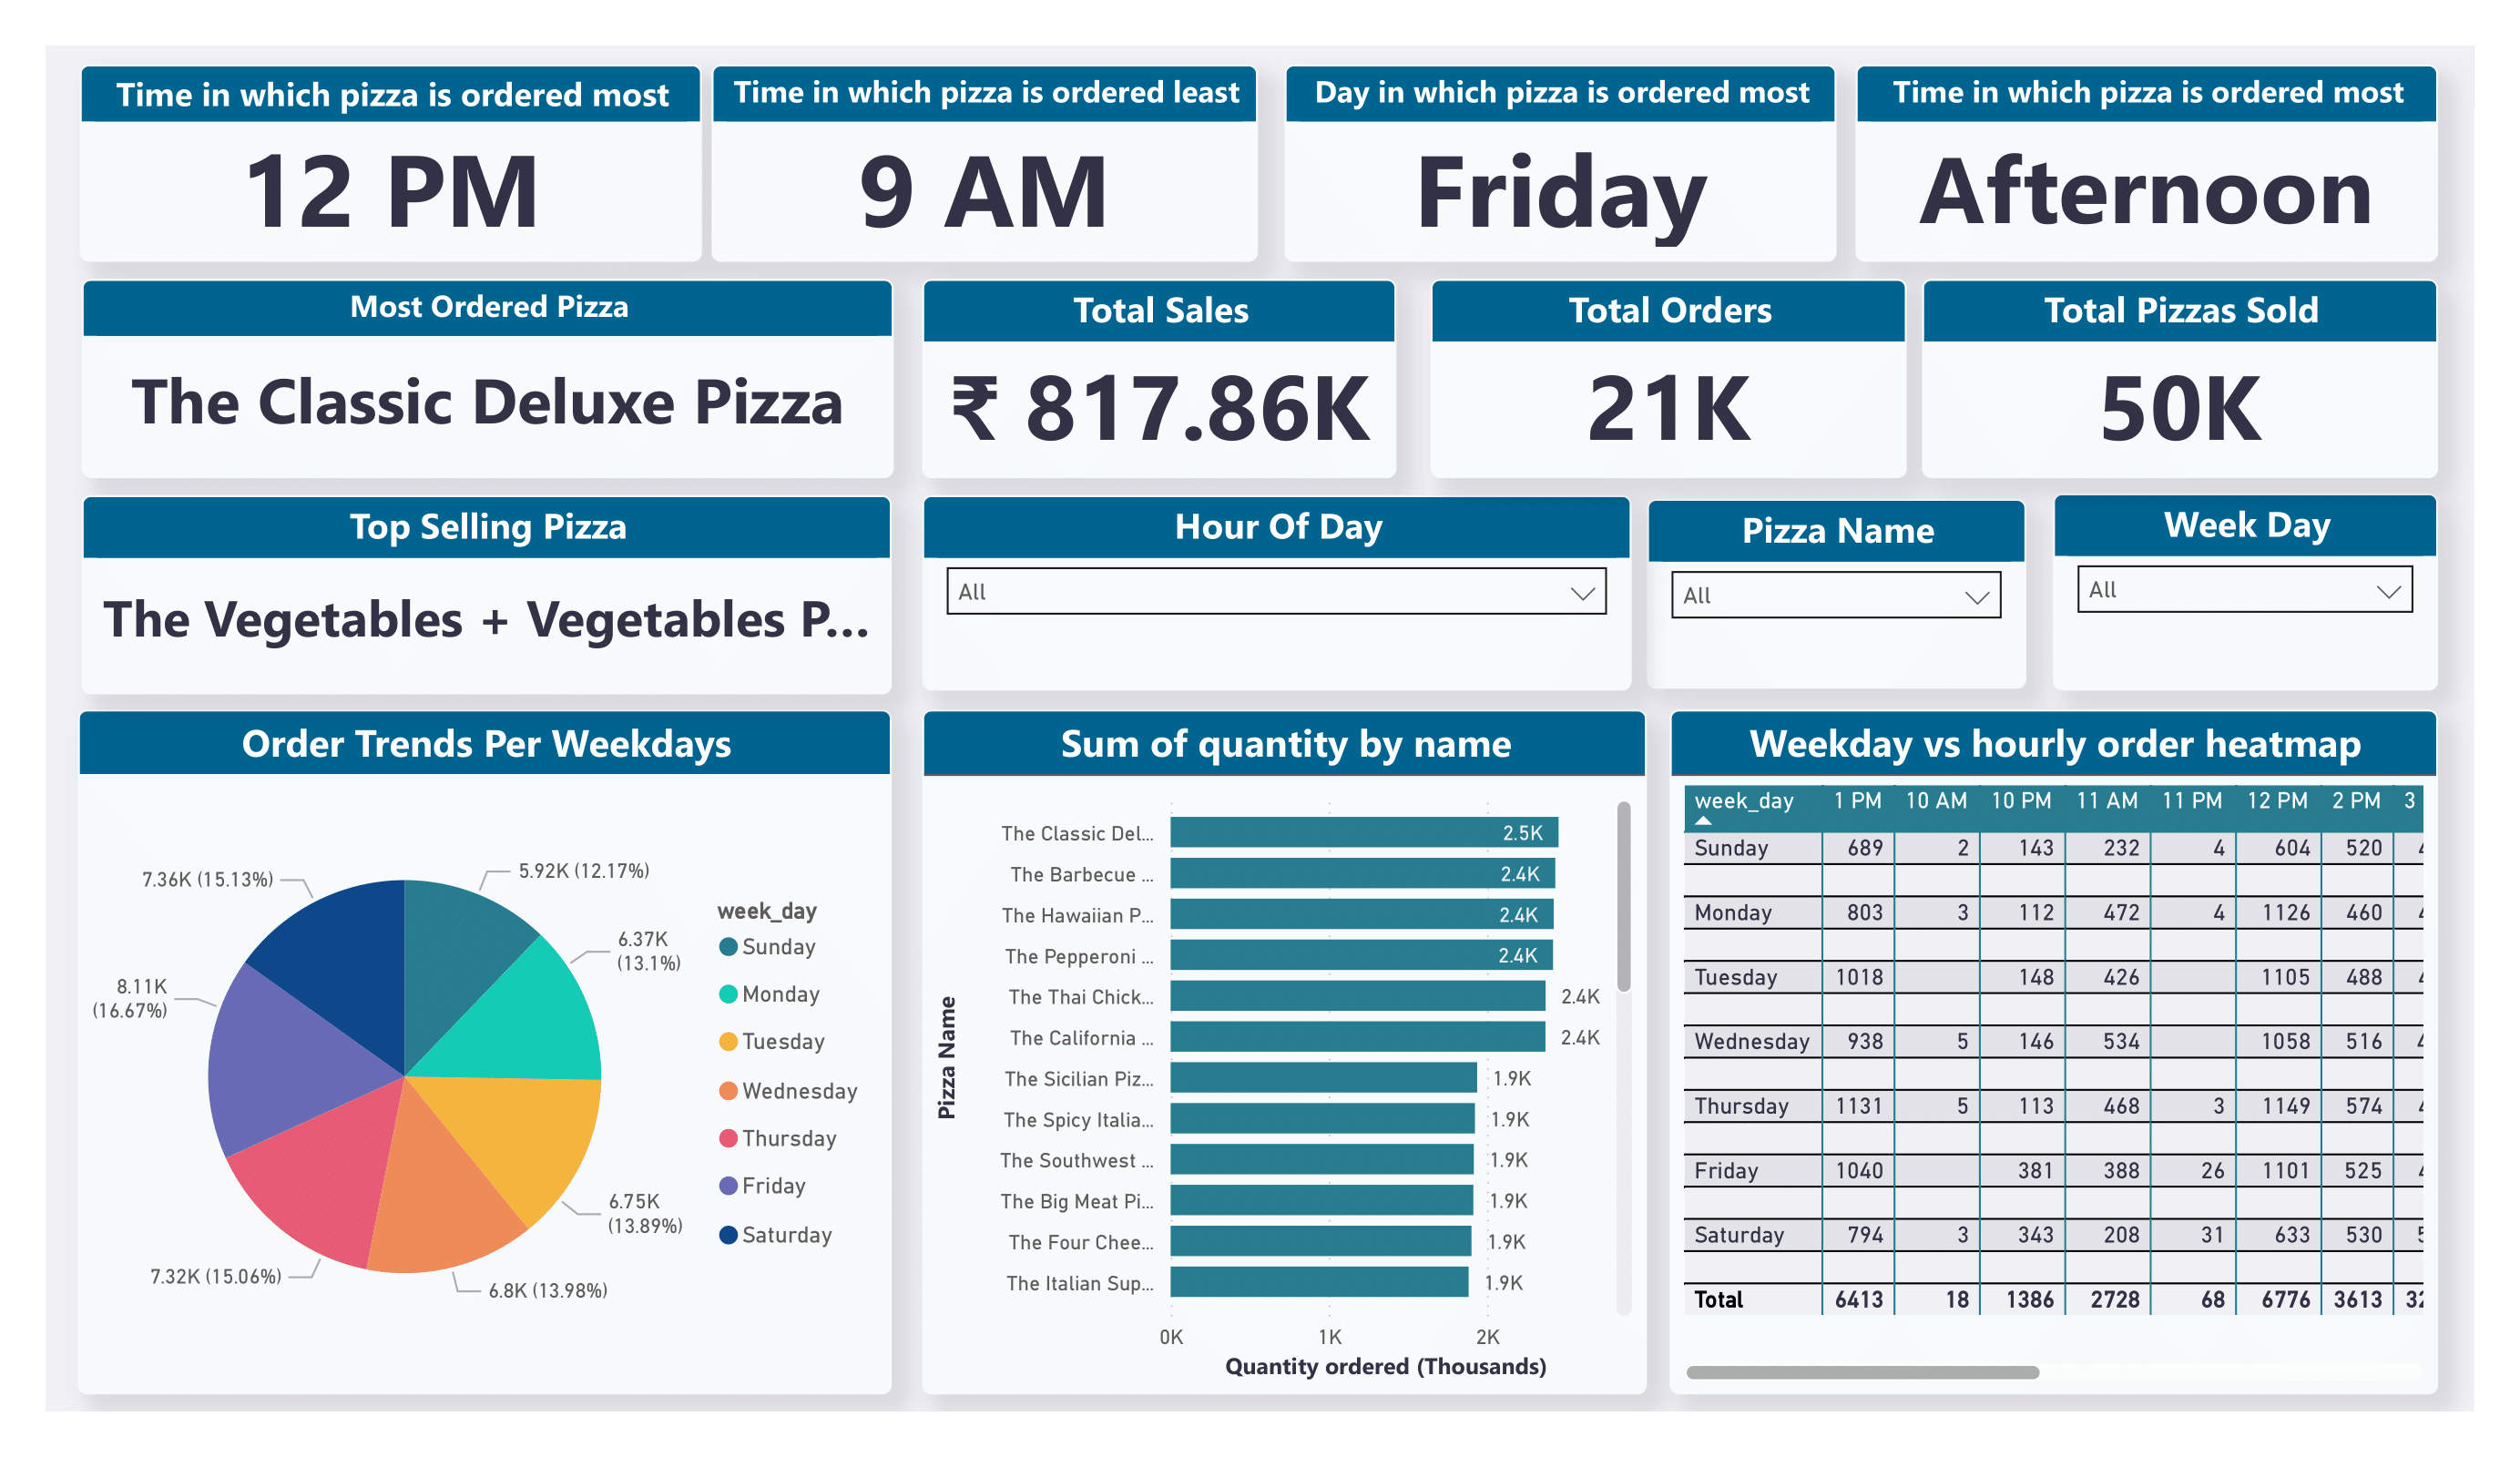

The page's visual inventory and layout, read from the dashboard file:
{"tool":"powerbi","page":{"name":"Page 1","canvas":[1280,720],"ordinal":0},"visuals":[{"type":"card","title":"Time in which pizza is ordered most ","fields":{"Values":["orders.most_ordered_pizza_time"]},"box":[17.8,9.6,328,104.3],"z":0},{"type":"card","title":"Time in which pizza is ordered least","fields":{"Values":["orders.least_ordered_pizza_time"]},"box":[351.3,9.6,288.2,104.3],"z":1000},{"type":"pieChart","title":"Order Trends Per Weekdays","fields":{"Y":["CountNonNull(order_details.order_id)"],"Category":["orders.week_day"]},"box":[17.1,350,428.6,361.4],"z":2000},{"type":"card","title":"Day in which pizza is ordered most","fields":{"Values":["orders.most_ordered_day"]},"box":[653.2,9.6,290.9,104.3],"z":3000},{"type":"barChart","fields":{"Y":["Sum(order_details.quantity)"],"Category":["pizza_types.name"]},"box":[462.4,349.9,381.5,360.9],"z":4000},{"type":"card","title":"Most Ordered Pizza","fields":{"Values":["pizza_types.Most_Ordered_Pizza"]},"box":[19.2,123.5,428.1,104.3],"z":5000},{"type":"card","title":"Time in which pizza is ordered most","fields":{"Values":["orders.most_ordered_pizza_day"]},"box":[953.7,9.6,307.4,104.3],"z":6000},{"type":"card","title":"Total Sales","fields":{"Values":["order_details.Total Sales"]},"box":[462.4,123.5,249.7,104.3],"z":7000},{"type":"slicer","title":"Pizza Name","fields":{"Values":["pizza_types.name"]},"box":[843.9,238.8,200.3,100.2],"z":8000},{"type":"slicer","title":"Week Day","fields":{"Values":["orders.week_day"]},"box":[1058,236,203.1,104.3],"z":9000},{"type":"slicer","title":"Hour Of Day","fields":{"Values":["orders.formatted_time"]},"box":[462.4,237.4,373.2,102.9],"z":10000},{"type":"pivotTable","title":"Weekday vs hourly order  heatmap","fields":{"Rows":["orders.week_day"],"Values":["Sum(order_details.quantity)"],"Columns":["orders.formatted_time"]},"box":[856.3,349.9,404.8,360.9],"z":11000},{"type":"card","title":"Total Orders","fields":{"Values":["orders.total_orders"]},"box":[730,123.5,251.1,104.3],"z":12000},{"type":"card","title":"Total Pizzas Sold","fields":{"Values":["order_details.total_pizzas_sold"]},"box":[989.4,123.5,271.7,104.3],"z":13000},{"type":"card","title":"Top Selling Pizza","fields":{"Values":["pizza_types.top_selling_pizza"]},"box":[19.2,237.4,426.8,104.3],"z":14000}]}

Visuals, with their boxes on the page's 1280x720 design canvas (x1, y1, x2, y2). These are canvas units, not pixel positions in the 2520x1457 screenshot, which may show the page scaled, cropped or inside an application window:
"Time in which pizza is ordered most " card: l=18, t=10, r=346, b=114
"Time in which pizza is ordered least" card: l=351, t=10, r=640, b=114
"Order Trends Per Weekdays" pieChart: l=17, t=350, r=446, b=711
"Day in which pizza is ordered most" card: l=653, t=10, r=944, b=114
barChart - Sum(order_details.quantity) x pizza_types.name: l=462, t=350, r=844, b=711
"Most Ordered Pizza" card: l=19, t=124, r=447, b=228
"Time in which pizza is ordered most" card: l=954, t=10, r=1261, b=114
"Total Sales" card: l=462, t=124, r=712, b=228
"Pizza Name" slicer: l=844, t=239, r=1044, b=339
"Week Day" slicer: l=1058, t=236, r=1261, b=340
"Hour Of Day" slicer: l=462, t=237, r=836, b=340
"Weekday vs hourly order  heatmap" pivotTable: l=856, t=350, r=1261, b=711
"Total Orders" card: l=730, t=124, r=981, b=228
"Total Pizzas Sold" card: l=989, t=124, r=1261, b=228
"Top Selling Pizza" card: l=19, t=237, r=446, b=342
